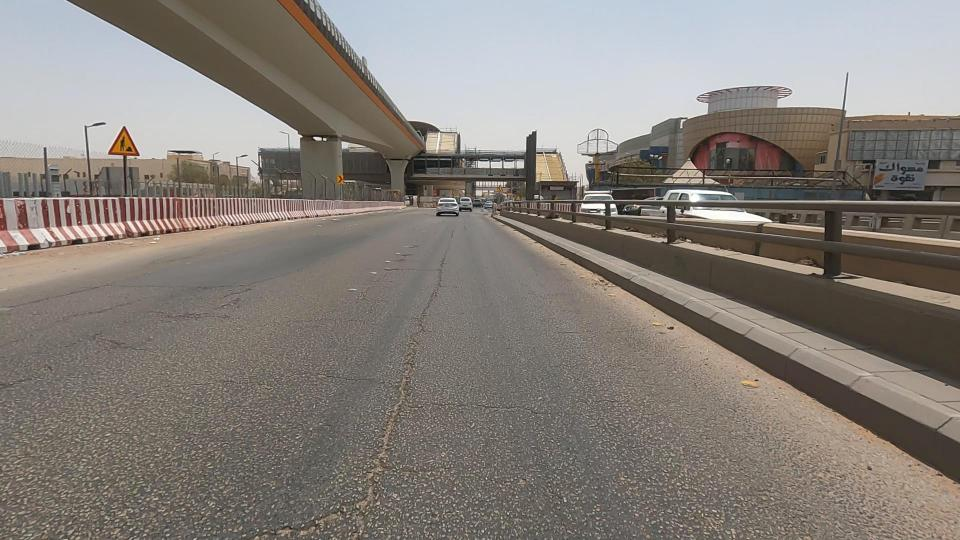CONSTRUCTION_ROAD: (1, 137, 247, 266), (144, 144, 320, 244), (262, 158, 396, 231)
